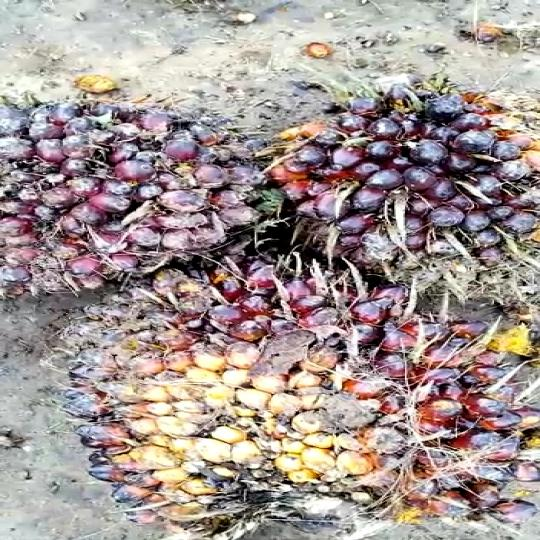kurang masak: (70, 256, 529, 537), (259, 64, 540, 300), (0, 74, 238, 321)
